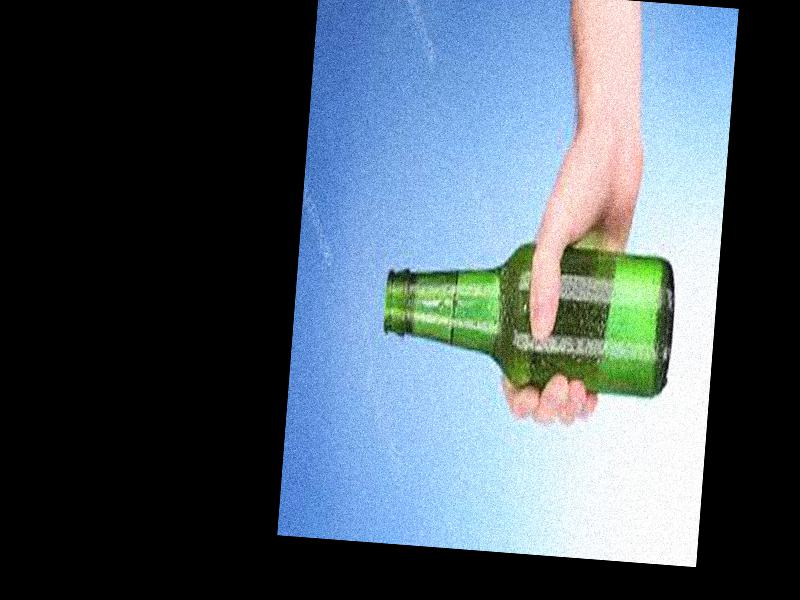Beer: (378, 236, 678, 395)
